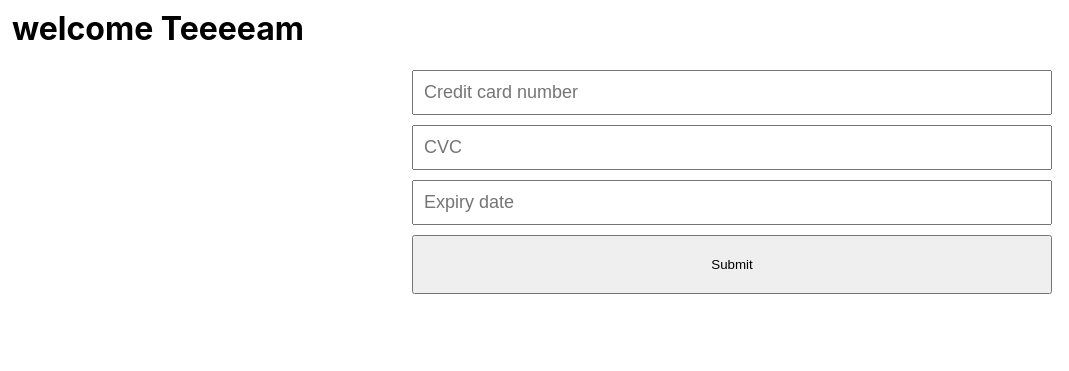
Scenario: RegisterCard › should display register card errors while input invalid information
The width and height of the screenshot is (1069, 371).
In the field named "credit_card": [732, 92] box 412,70 -> 1052,115, type "invalidCard"
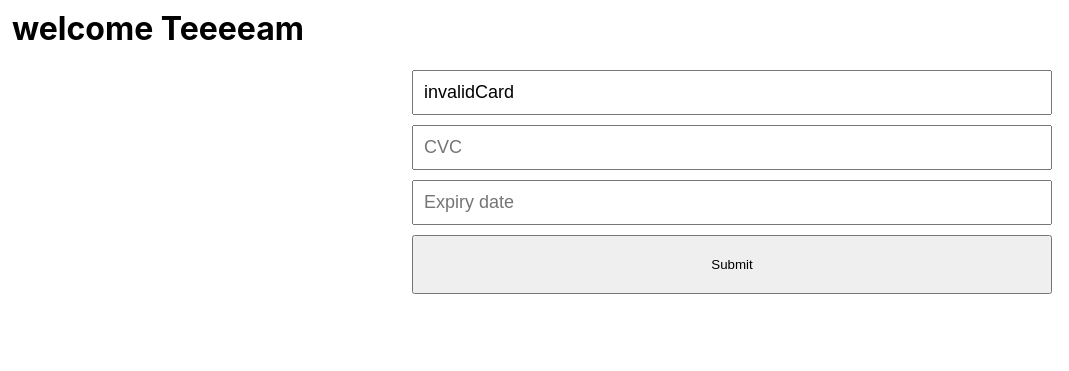
In the field named "cvc": [732, 147] box 412,125 -> 1052,170, type "invalidcvc"
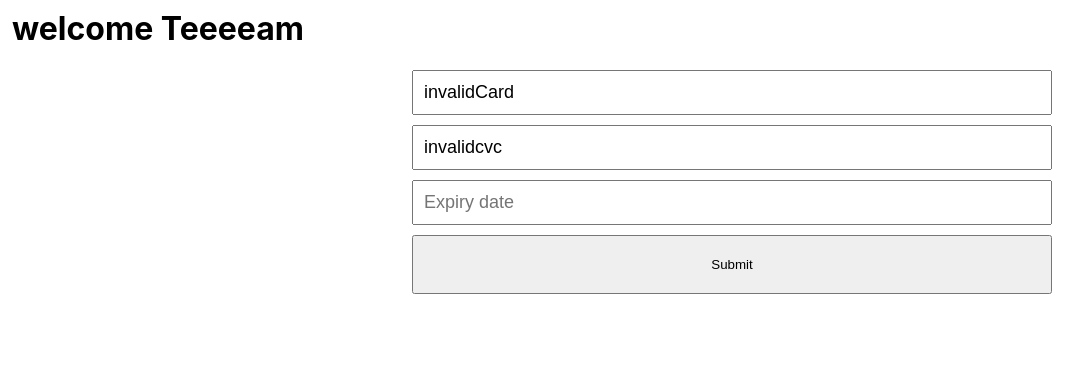
In the field named "expiry_date": [732, 202] box 412,180 -> 1052,225, type "expiryDate"
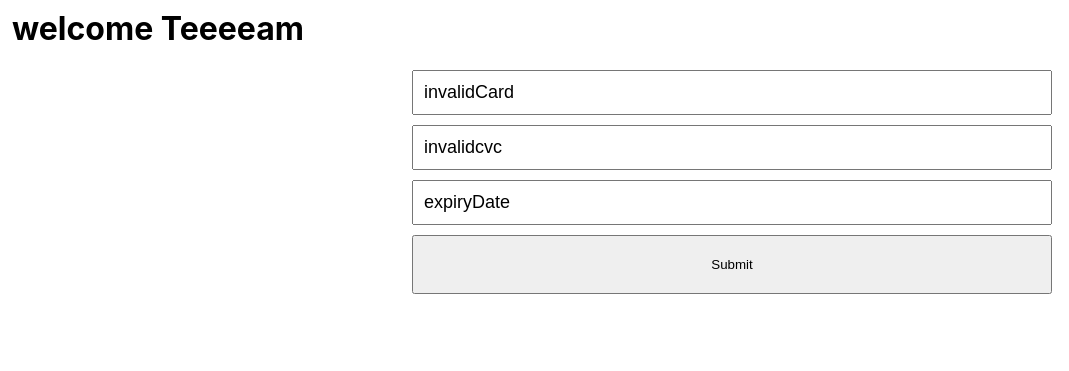
Click the submit button: [732, 264] box 412,235 -> 1052,294
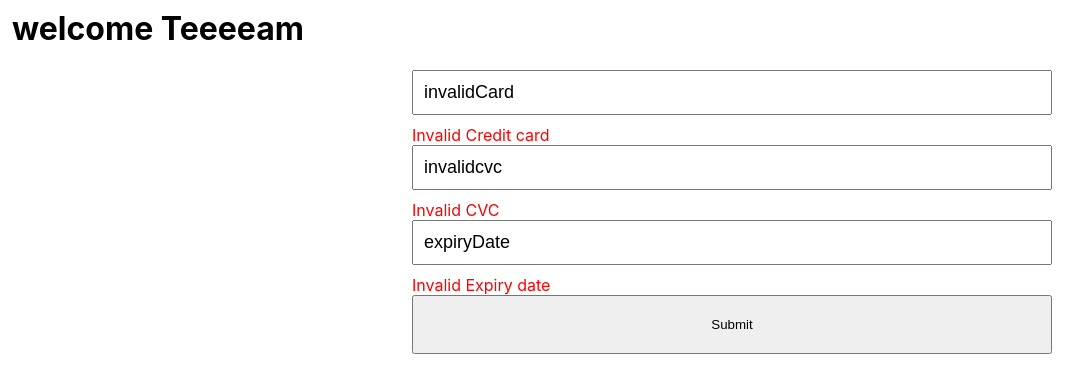
Now the text with id "cc-error" reads "Invalid Credit card", box 412,125 -> 550,145
Now the text with id "cvc-error" reads "Invalid CVC", box 412,200 -> 499,220
Now the text with id "expiry-error" reads "Invalid Expiry date", box 412,275 -> 550,295
